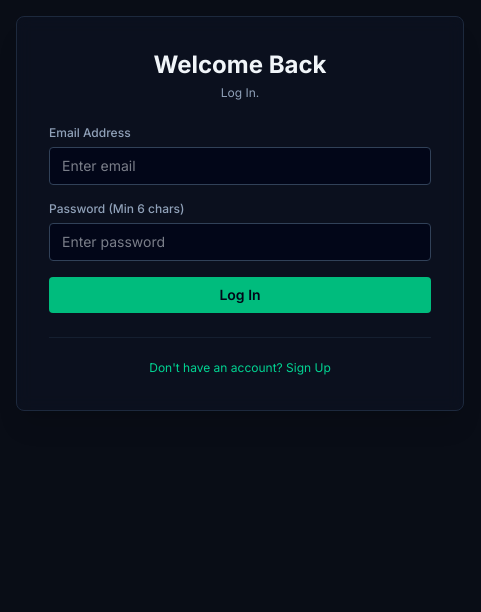
Test: Login Page (Client Component) › blocks submission when passwords do not match
Click the button "Don't have an account? Sign Up" at (240, 368), box 149,360 -> 331,376
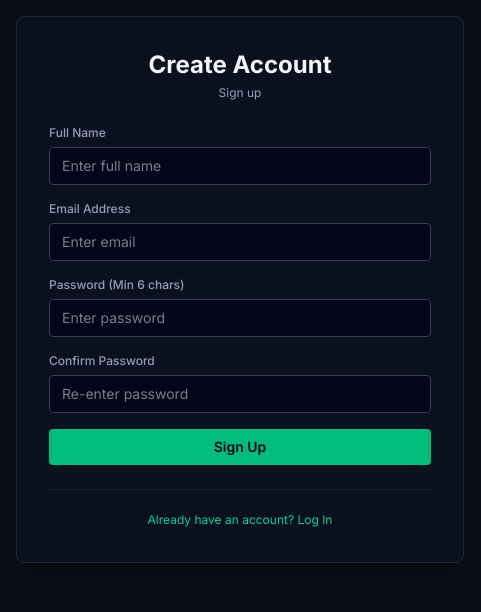
Type "New User" into the field with placeholder "Enter full name" at (240, 166), box 49,147 -> 431,185
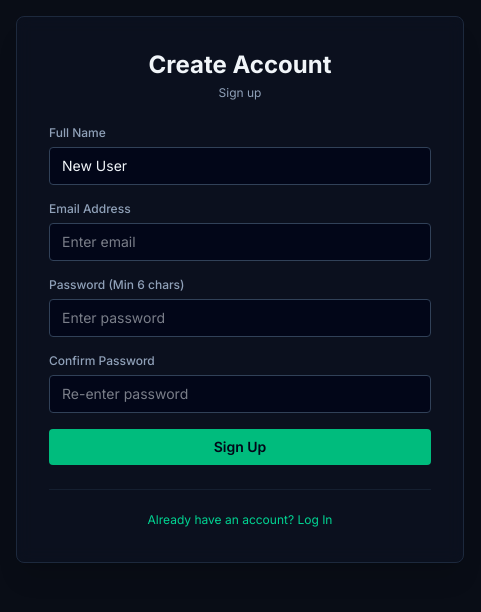
Type "newuser@domain.com" into the field with placeholder "Enter email" at (240, 242), box 49,223 -> 431,261
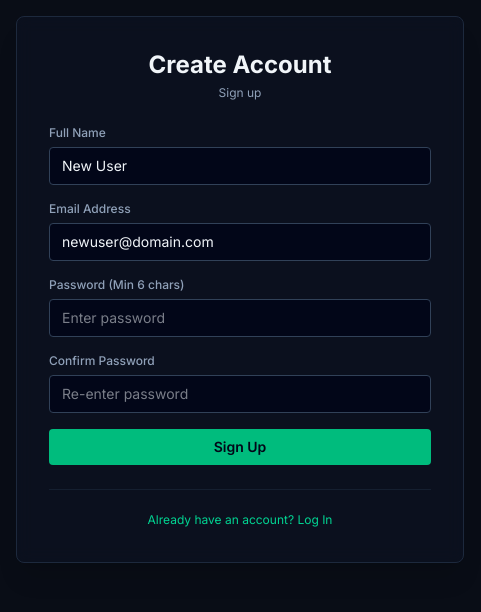
Type "securePassword" into the password field with placeholder "Enter password" at (240, 318), box 49,299 -> 431,337
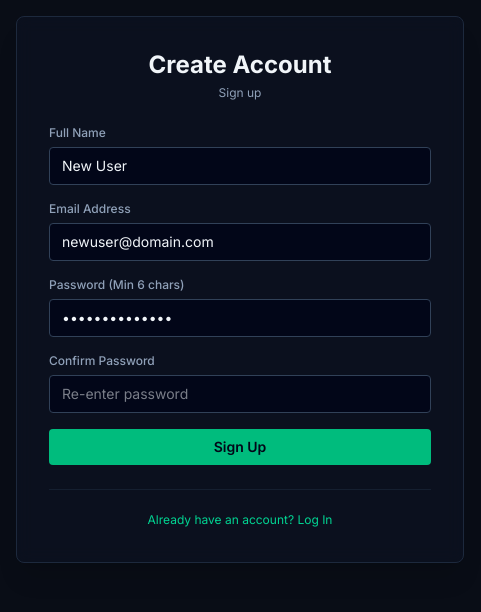
Type "differentPassword" into the password field with placeholder "Re-enter password" at (240, 394), box 49,375 -> 431,413
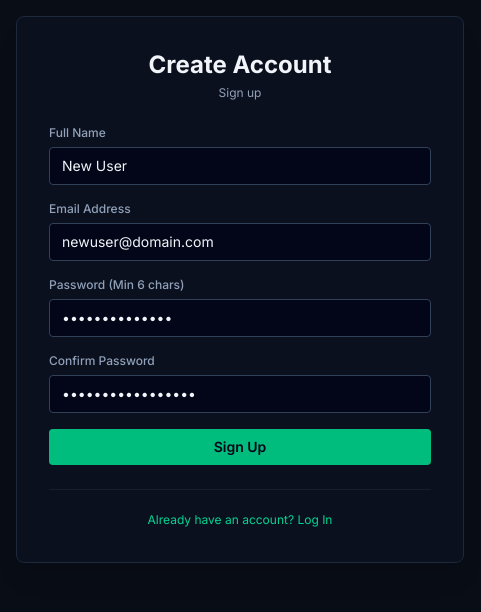
Click the button "Sign Up" at (240, 447), box 49,429 -> 431,465
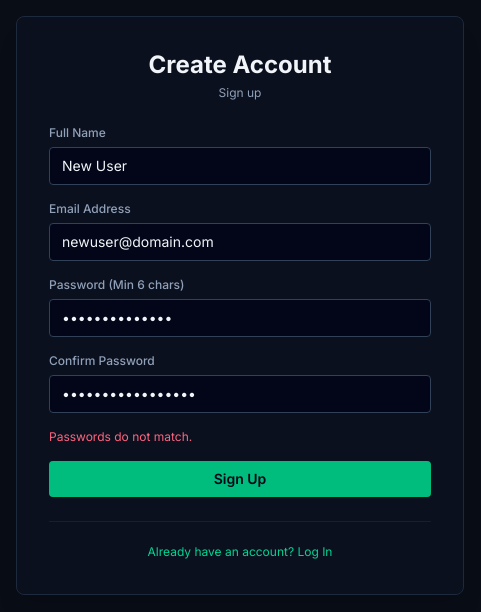
Now the text "Passwords do not match." is shown, box 49,429 -> 192,444
